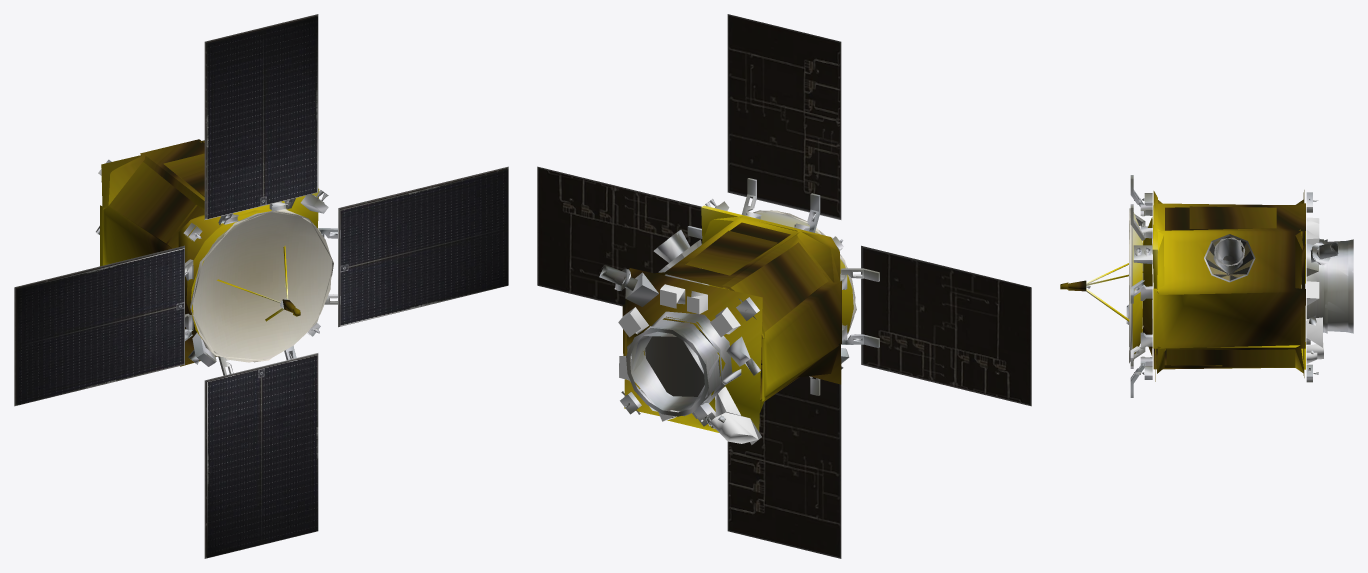
The model's file is near_lod2.glb.
The picture shows the model from 3 angles, left to right: view 1: azimuth 30°, elevation 25°; view 2: azimuth 150°, elevation 25°; view 3: azimuth 270°, elevation 25°; orthographic projection. The views are drawn at different scales.
Visible parts, largest first — view 1: near_lod2; view 2: near_lod2; view 3: near_lod2.
Boxes of the visible parts, <box> form: near_lod2: <box>14,14,508,558</box>; near_lod2: <box>537,14,1031,558</box>; near_lod2: <box>1060,175,1353,397</box>.
Size of the model in its own units: 5.28 by 5.28 by 2.86.
4 materials, 3 textured.
